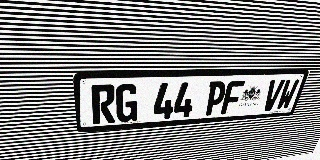4: (153, 83, 177, 120), (173, 82, 197, 118)
F: (220, 81, 245, 114)
G: (116, 84, 139, 123)
P: (203, 81, 228, 116)
R: (91, 84, 115, 124)
V: (261, 79, 285, 111)
W: (275, 79, 300, 110)
